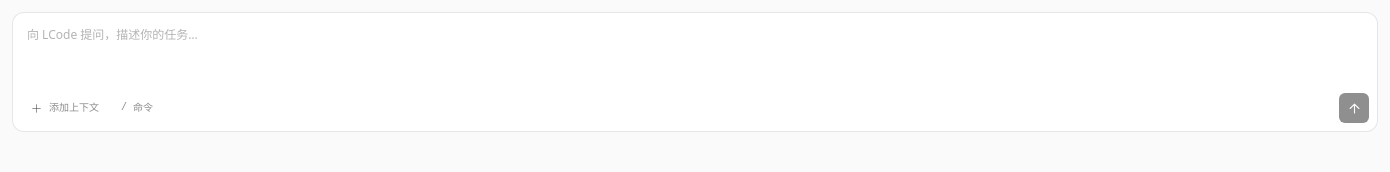
Test: Composer · 发送与停止（AC-001-1/2/4） › RUN_ALREADY_ACTIVE：如实提示（服务端已运行中的幂等兜底）
Type "hi" into the text box with test id "composer-input".
click(695, 50); type("hi")  # box [13,13,1377,87]
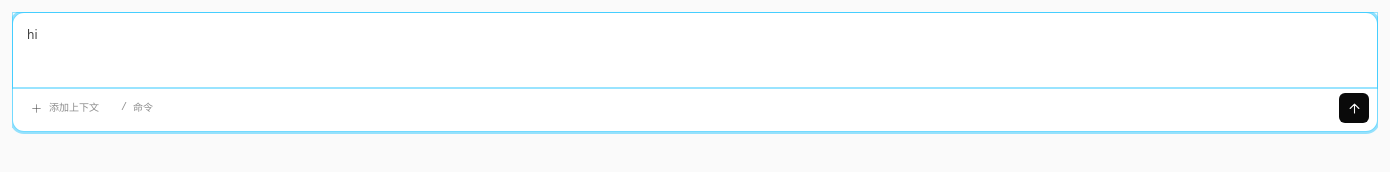
Click the button with test id "composer-send".
click(1354, 108)  # box [1339,93,1369,123]
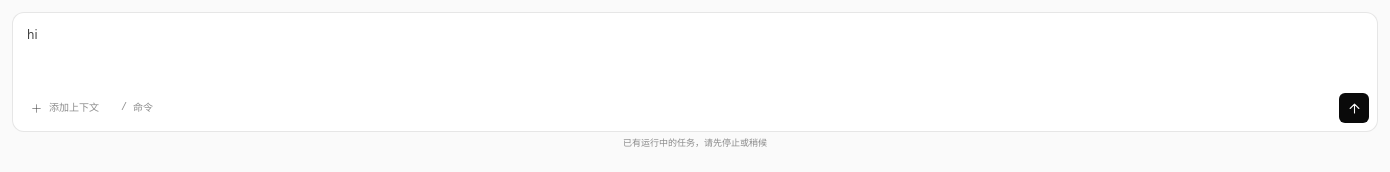
Now the text with test id "composer-hint" shows "已有运行中的任务", box [623,136,767,149]
